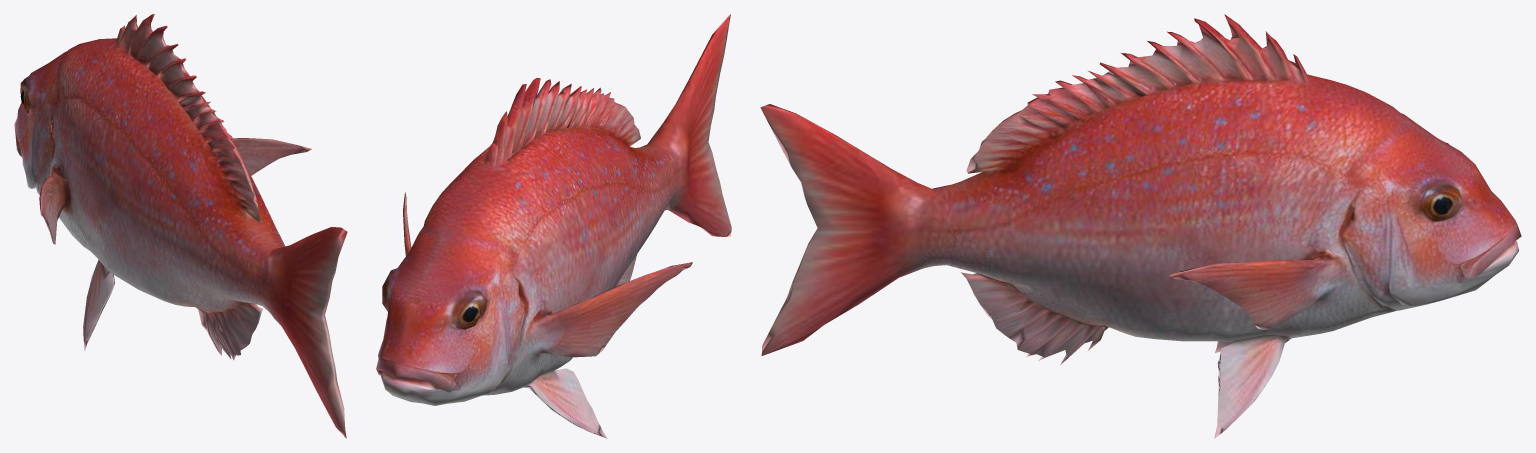
File: bream.glb
3 renders of one model, left to right at view 1: azimuth 30°, elevation 25°; view 2: azimuth 150°, elevation 25°; view 3: azimuth 270°, elevation 25°, orthographic. The views are drawn at different scales.
Parts seen in each view (by area): view 1: tripo_node_38695895-3c00-4c44-9830-b537171a1d91; view 2: tripo_node_38695895-3c00-4c44-9830-b537171a1d91; view 3: tripo_node_38695895-3c00-4c44-9830-b537171a1d91.
Boxes of the visible parts, x1,y1,x2,y2 form: tripo_node_38695895-3c00-4c44-9830-b537171a1d91: [14, 14, 347, 438]; tripo_node_38695895-3c00-4c44-9830-b537171a1d91: [376, 14, 731, 438]; tripo_node_38695895-3c00-4c44-9830-b537171a1d91: [760, 14, 1521, 438].
Size of the model in its own units: 0.4914 by 0.5528 by 1.
Materials: 1 (1 with a texture image).
